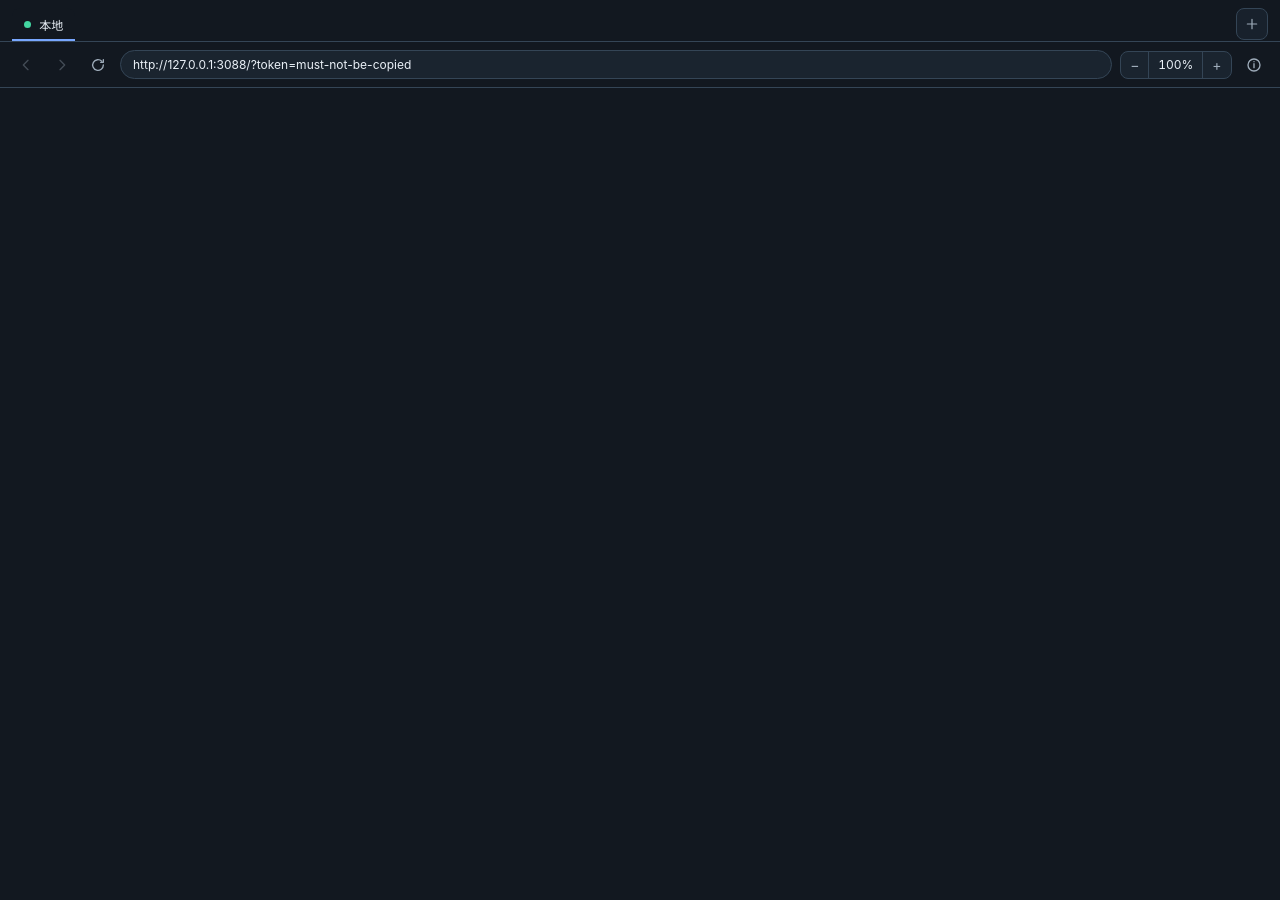
RuntimeTabsPanel rendering controls › lists a paired computer without any P2P page having been opened
The image size is (1280, 900).
Click the button with test id "runtime-add-tab" at x=1252, y=24, box [1236,8,1268,40]
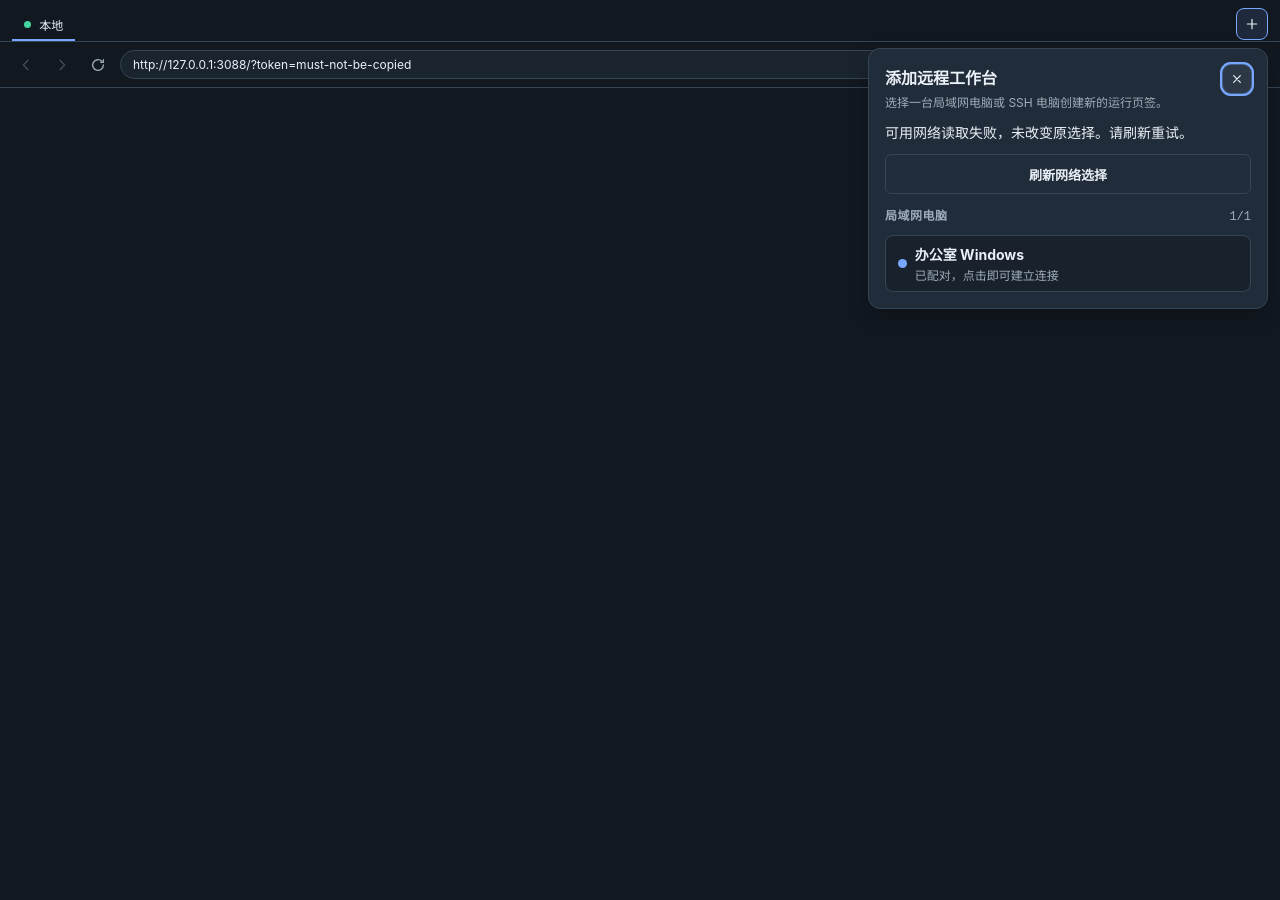
Result: the button with test id "runtime-add-peer-cccccccc-cccc-4ccc-8ccc-cccccccccccc" is shown at [885,235,1251,292]
